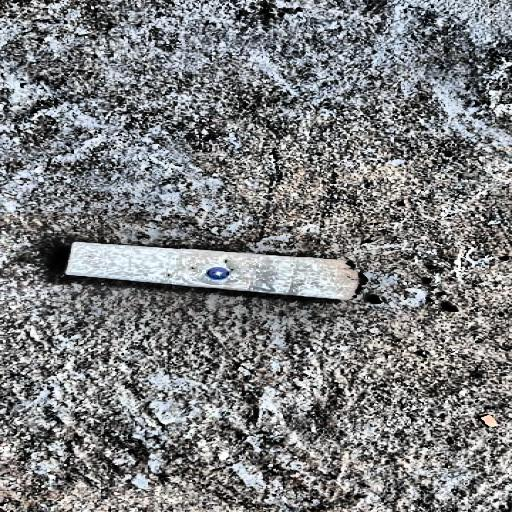Asbak: (64, 242, 360, 300)
